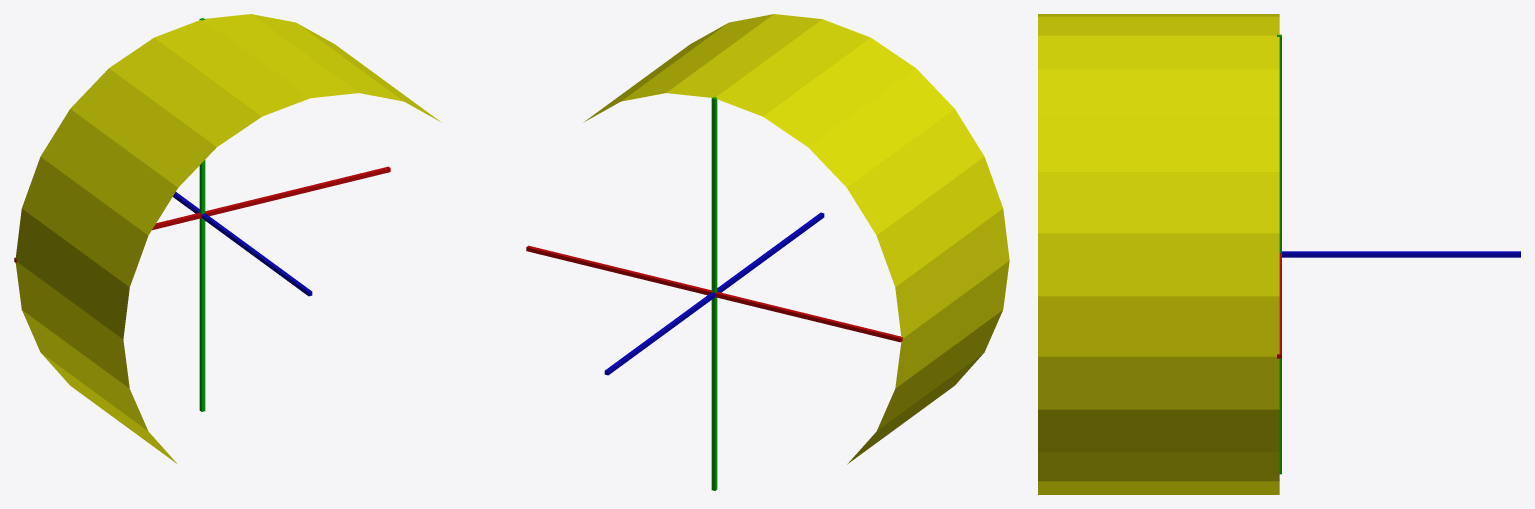
File: CIL.glb
3 renders of one model, left to right at view 1: azimuth 30°, elevation 25°; view 2: azimuth 150°, elevation 25°; view 3: azimuth 270°, elevation 25°, orthographic. The views are drawn at different scales.
Visible parts, largest first — view 1: world; view 2: world; view 3: world.
Part boxes in pixels (x1,y1,x2,y2): world: [14, 14, 441, 463]; world: [526, 14, 1009, 490]; world: [1038, 14, 1520, 494].
Bounding box in the file's own units: 2 × 2 × 2.
